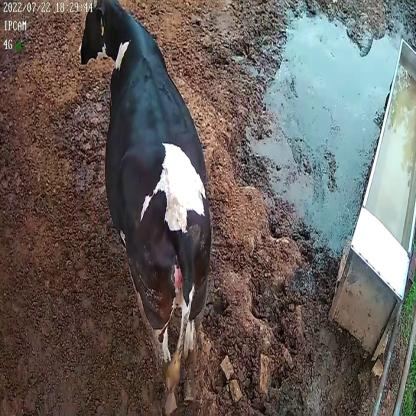cow: (77, 0, 215, 415)
